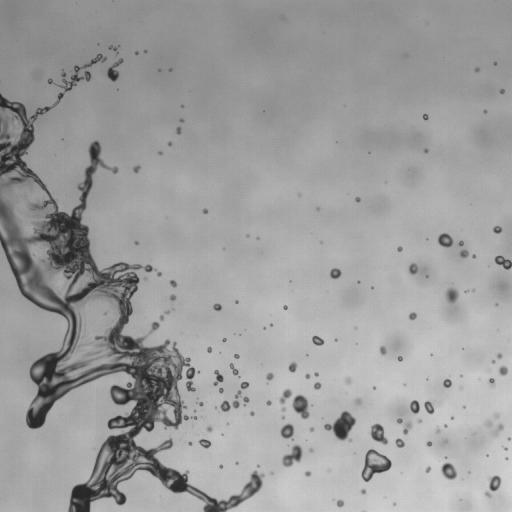droplet: (361, 449, 391, 481), (324, 411, 355, 441), (282, 444, 302, 467), (292, 394, 309, 419), (369, 423, 387, 444), (107, 58, 123, 81), (440, 462, 457, 479), (494, 255, 511, 269), (424, 400, 441, 414), (280, 423, 294, 439), (438, 233, 453, 247), (445, 287, 458, 303), (491, 423, 503, 437), (213, 370, 223, 385), (330, 268, 341, 279), (410, 400, 419, 413), (403, 421, 412, 434), (312, 336, 324, 345), (199, 439, 211, 448), (288, 362, 297, 372), (409, 263, 417, 274), (395, 438, 404, 447), (499, 366, 507, 375), (443, 378, 451, 387), (460, 249, 468, 257), (241, 381, 249, 389), (379, 346, 386, 355), (133, 165, 140, 173), (493, 226, 501, 233), (408, 312, 416, 319), (266, 372, 273, 380), (488, 378, 495, 386), (485, 420, 492, 428), (344, 377, 351, 384), (314, 382, 321, 389), (336, 500, 343, 507), (213, 304, 221, 310), (170, 280, 176, 287), (243, 397, 249, 404), (355, 398, 361, 405), (206, 426, 212, 432), (176, 127, 181, 134), (48, 78, 53, 84), (170, 294, 175, 300), (497, 353, 502, 359), (494, 412, 499, 418), (425, 466, 430, 472), (305, 471, 311, 476), (423, 114, 428, 119), (355, 197, 360, 202), (458, 241, 463, 246), (397, 246, 402, 251), (159, 315, 164, 320), (397, 356, 402, 361), (305, 373, 310, 378), (198, 401, 203, 406), (397, 418, 402, 423), (309, 426, 314, 431), (426, 441, 431, 446), (361, 489, 366, 494), (157, 271, 161, 276), (283, 305, 287, 310), (207, 347, 211, 352), (234, 354, 239, 358), (266, 401, 271, 405), (475, 67, 479, 71), (500, 89, 504, 93), (203, 209, 207, 213), (104, 311, 108, 315), (314, 372, 318, 376), (219, 388, 223, 392), (250, 411, 254, 415), (436, 429, 440, 433), (309, 448, 313, 452), (164, 311, 169, 314), (180, 118, 183, 122), (424, 149, 428, 152), (503, 447, 507, 450), (135, 51, 138, 54), (483, 110, 486, 113), (168, 142, 171, 145), (158, 151, 161, 154), (135, 241, 138, 244), (472, 255, 475, 258), (222, 338, 225, 341), (418, 419, 421, 422), (188, 442, 191, 445), (219, 465, 222, 468), (494, 62, 496, 65), (472, 289, 475, 291), (495, 303, 497, 306), (270, 323, 272, 326), (492, 360, 494, 363), (451, 416, 453, 419), (444, 425, 447, 427), (508, 438, 511, 440), (235, 462, 238, 464), (169, 69, 171, 71), (24, 193, 26, 195), (144, 277, 146, 279), (282, 416, 284, 418), (393, 503, 395, 505)
ligament: (0, 54, 262, 511), (220, 390, 241, 411), (485, 475, 501, 497), (278, 389, 292, 411), (229, 363, 238, 375), (109, 46, 117, 51)
